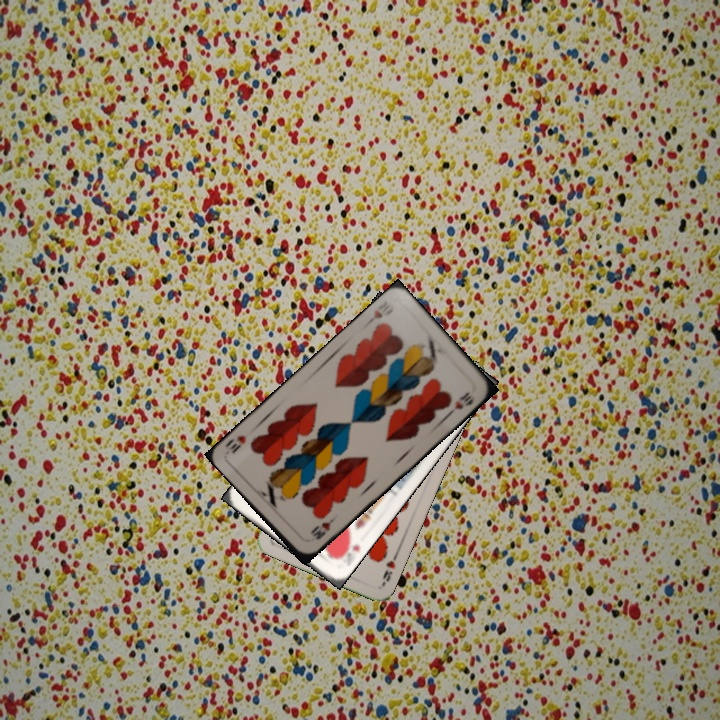H10: (362, 301, 397, 328), (306, 513, 338, 542)
H9: (379, 549, 401, 584)
HK: (332, 537, 363, 562)
